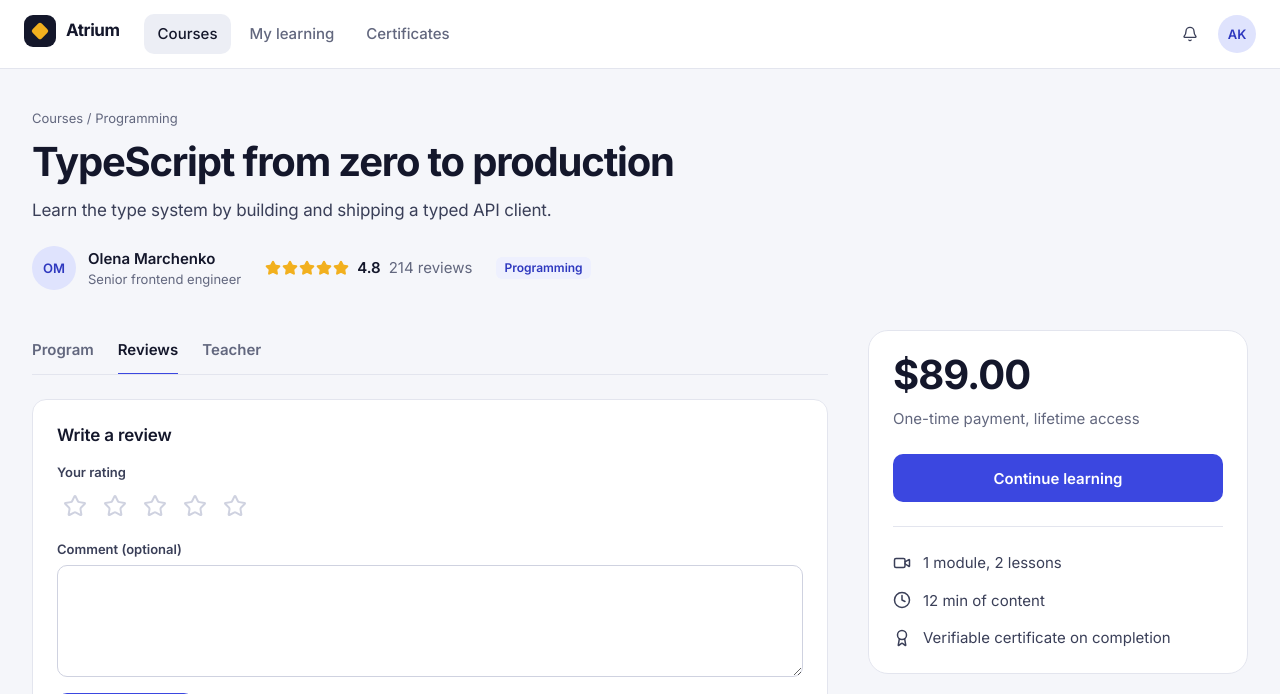
Test case: course reviews › publishes a review and shows it as the student's own
The width and height of the screenshot is (1280, 694).
Click the radio button named "5 stars": x=235, y=506 217,488 -> 253,524
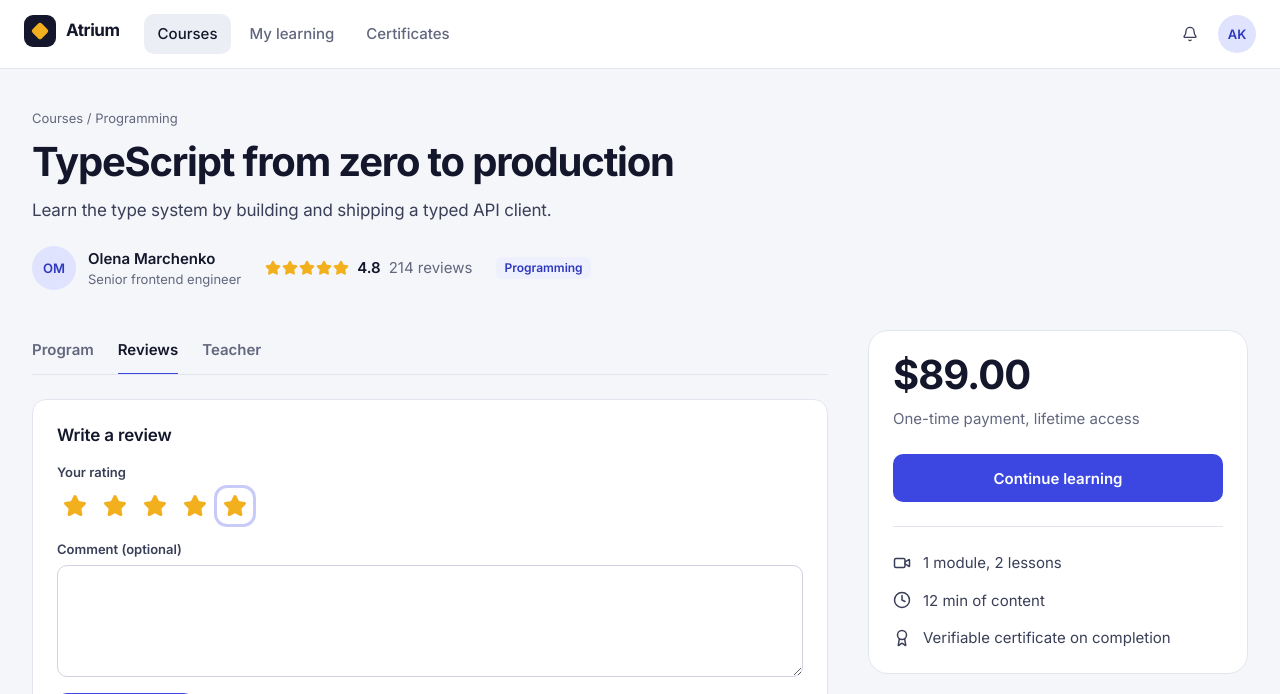
In the text box labelled "Comment (optional)": x=430, y=621 57,565 -> 803,677, type "Great course"
(page scrolled)
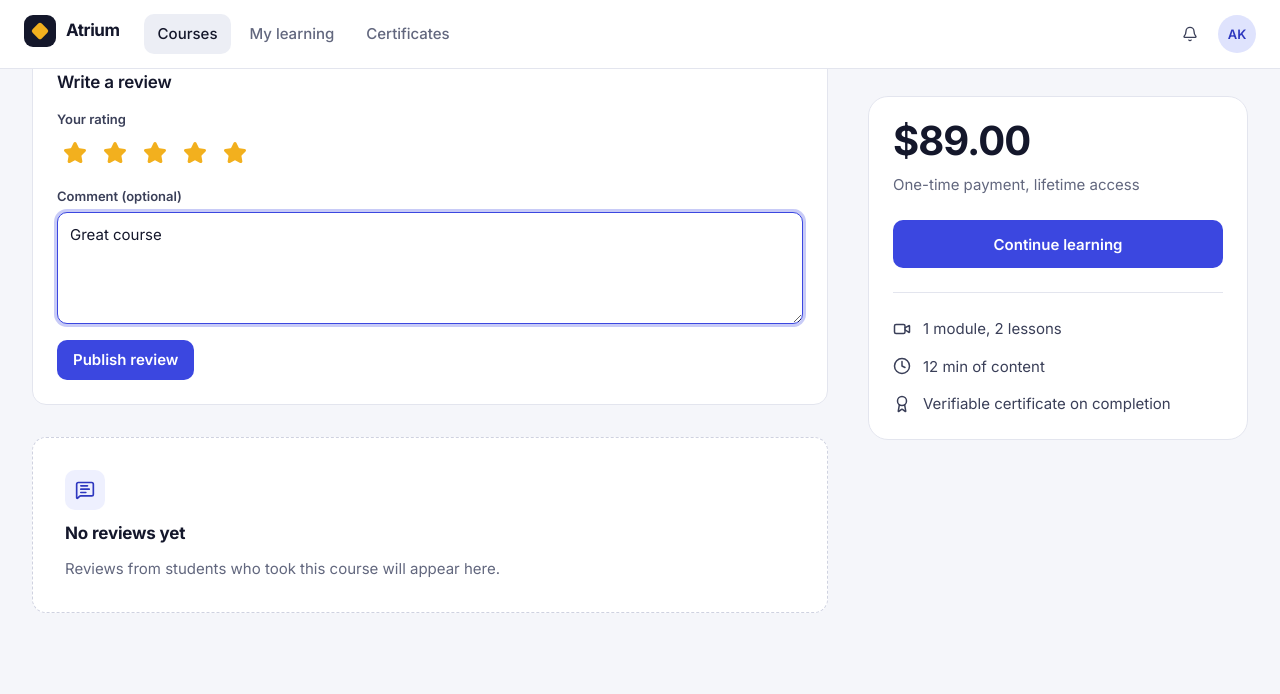
Click the button "Publish review": x=126, y=360 57,340 -> 194,380
(page scrolled)
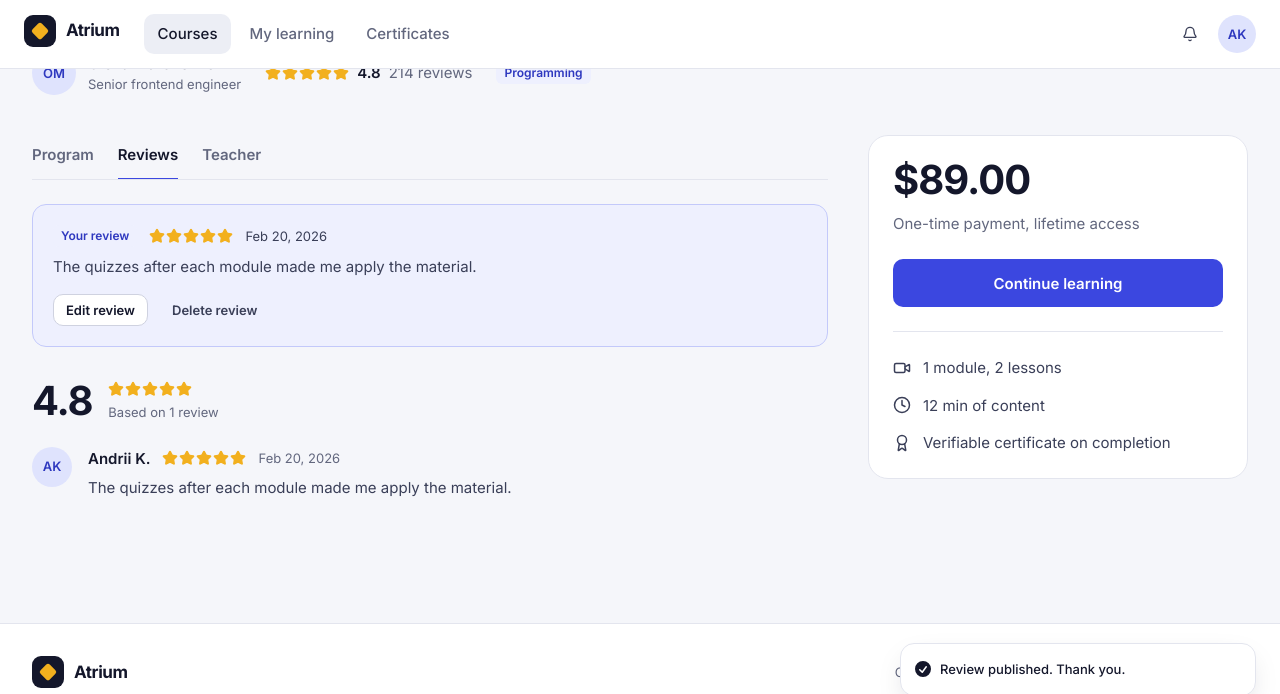
Result: the element "Your review" is shown at 32,204 -> 828,348
